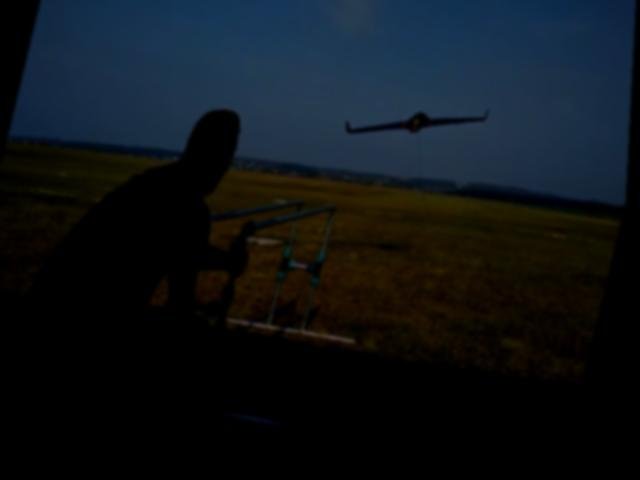plane: (342, 89, 492, 168)
